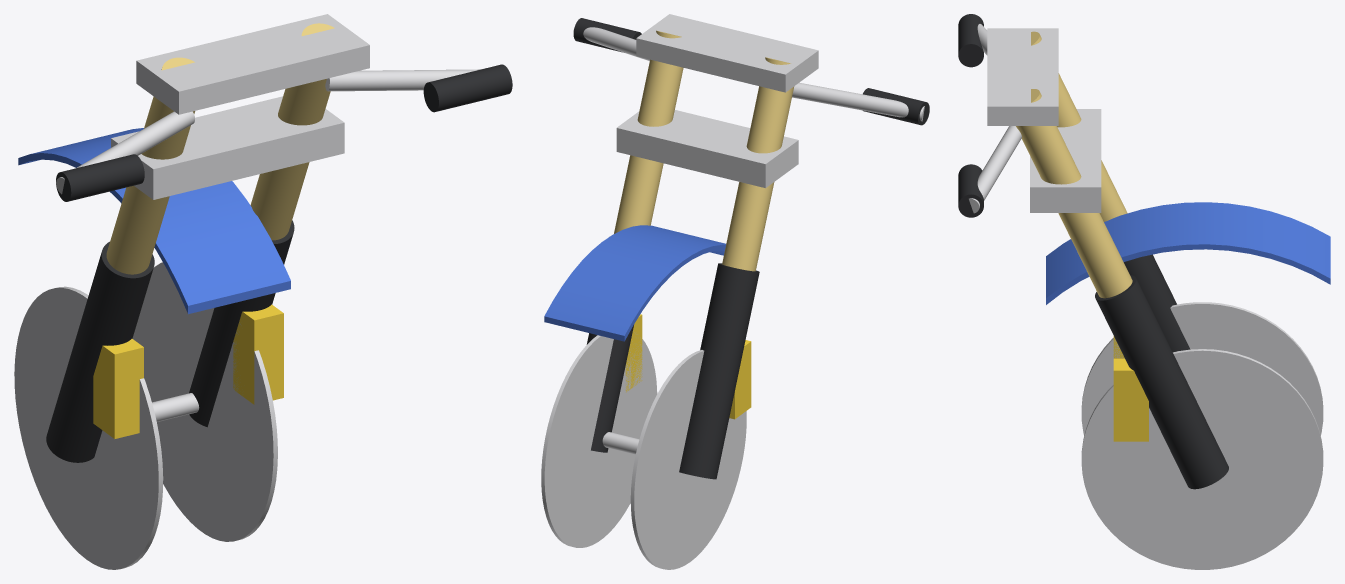
The model's file is fork.glb.
3 views of the same model, side by side, from view 1: azimuth 30°, elevation 25°; view 2: azimuth 150°, elevation 25°; view 3: azimuth 270°, elevation 25° (orthographic). The views are drawn at different scales.
Visible parts, largest first — view 1: Metal, Carbon, Livery, Gold, Accent; view 2: Metal, Carbon, Livery, Gold, Accent; view 3: Metal, Carbon, Livery, Gold, Accent.
Boxes of the visible parts, x1,y1,x2,y2 form: Metal: [14, 14, 480, 569]; Carbon: [46, 64, 512, 462]; Livery: [18, 128, 290, 314]; Gold: [106, 23, 334, 274]; Accent: [93, 304, 283, 438]; Metal: [541, 14, 924, 569]; Carbon: [573, 18, 929, 479]; Livery: [544, 225, 726, 341]; Gold: [614, 30, 794, 271]; Accent: [625, 314, 751, 419]; Metal: [969, 24, 1323, 569]; Carbon: [958, 14, 1228, 489]; Livery: [1046, 202, 1330, 304]; Gold: [1016, 31, 1132, 298]; Accent: [1113, 336, 1148, 441].
Bounding box in the file's own units: 0.6073 × 0.747 × 0.523.
